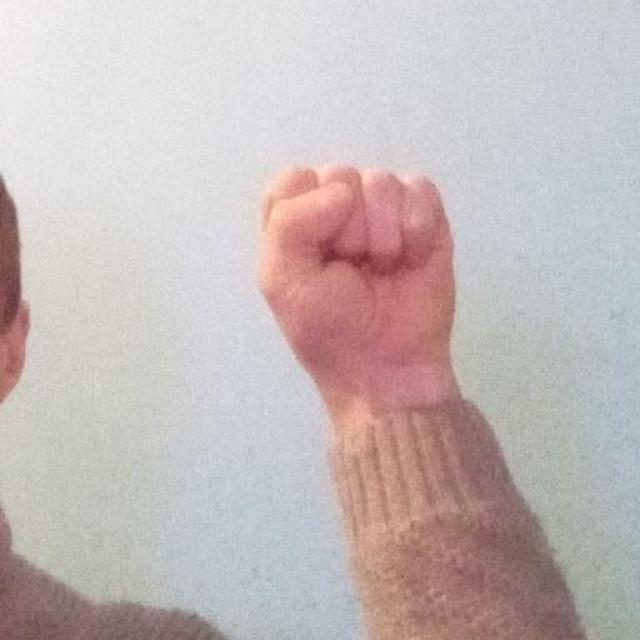hand: (255, 160, 463, 415)
